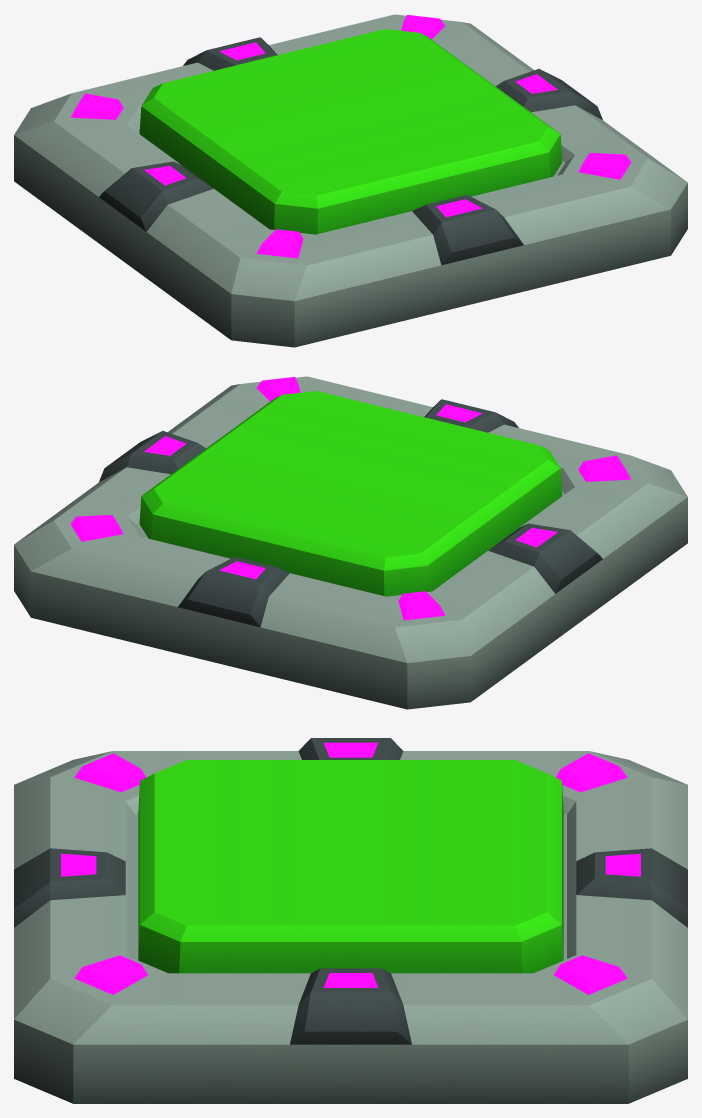
The model's file is switch_010.fbx.
3 renders of one model, top to bottom at view 1: azimuth 30°, elevation 25°; view 2: azimuth 150°, elevation 25°; view 3: azimuth 270°, elevation 25°, orthographic. The views are drawn at different scales.
Visible parts, largest first — view 1: switch.010; view 2: switch.010; view 3: switch.010.
Boxes of the visible parts, x1,y1,x2,y2 form: switch.010: (14,14,687,347); switch.010: (14,376,687,709); switch.010: (14,738,687,1103).
Bounding box in the file's own units: 180 × 34.88 × 180.
